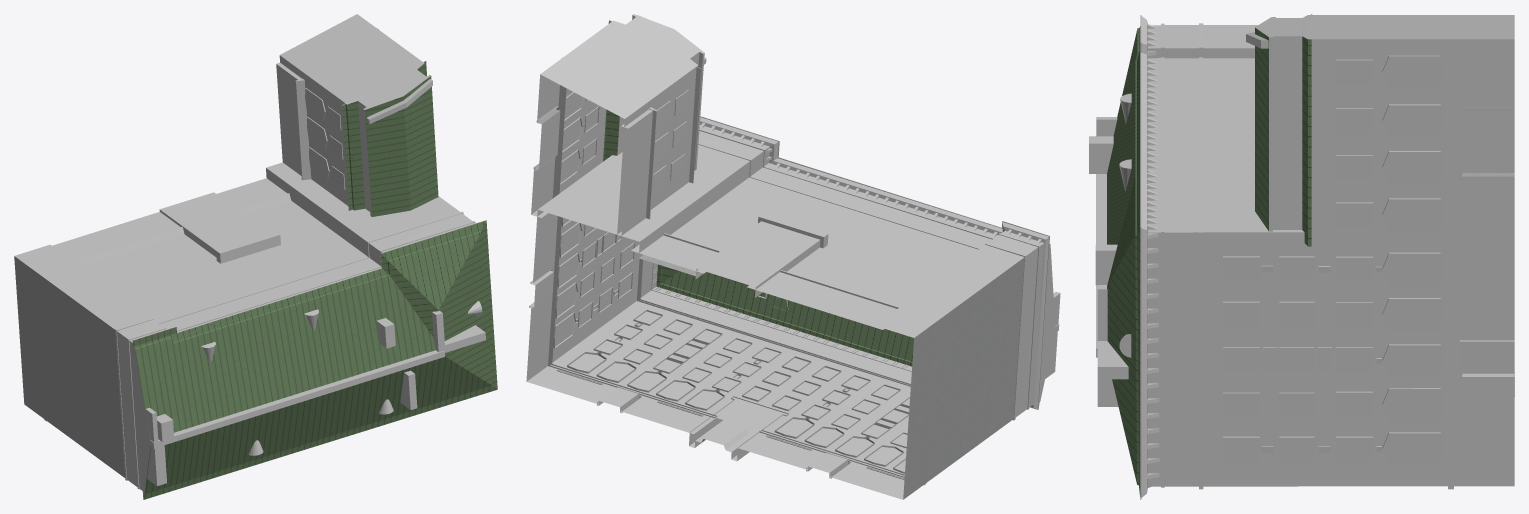
The model's file is VabaduseValjak6.obj.
The picture shows the model from 3 angles, left to right: view 1: azimuth 30°, elevation 25°; view 2: azimuth 150°, elevation 25°; view 3: azimuth 270°, elevation 25°; orthographic projection. The views are drawn at different scales.
Visible parts, largest first — view 1: 221_Vabaduse_valjak_6; view 2: 221_Vabaduse_valjak_6; view 3: 221_Vabaduse_valjak_6.
Boxes of the visible parts, x1,y1,x2,y2 form: 221_Vabaduse_valjak_6: (14, 14, 497, 499); 221_Vabaduse_valjak_6: (526, 14, 1060, 499); 221_Vabaduse_valjak_6: (1089, 14, 1514, 499).
Size of the model in its own units: 39.49 by 32.68 by 26.01.
